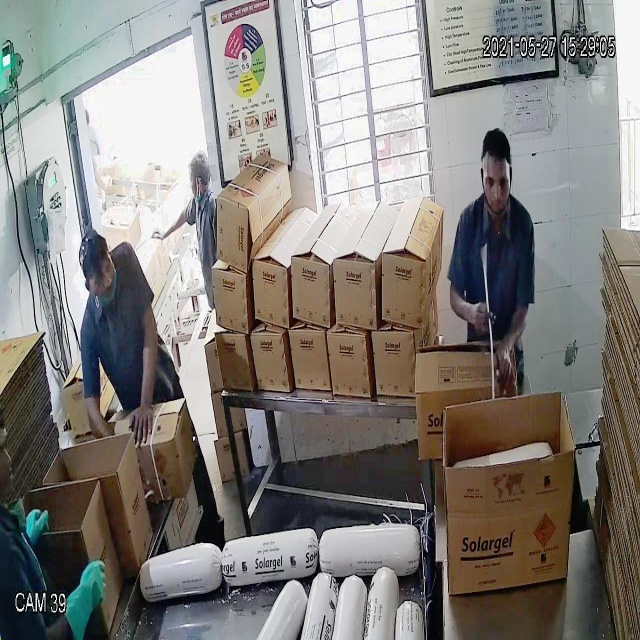Sin_gafas: (78, 252, 121, 294), (474, 159, 519, 198)
